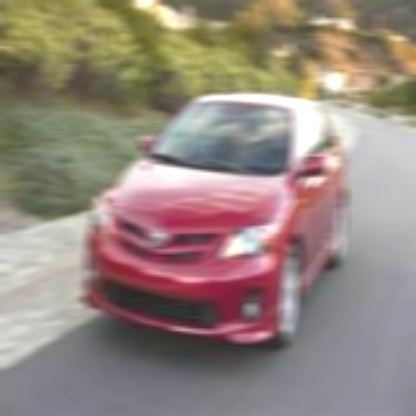Vehicle: (82, 90, 351, 357)
